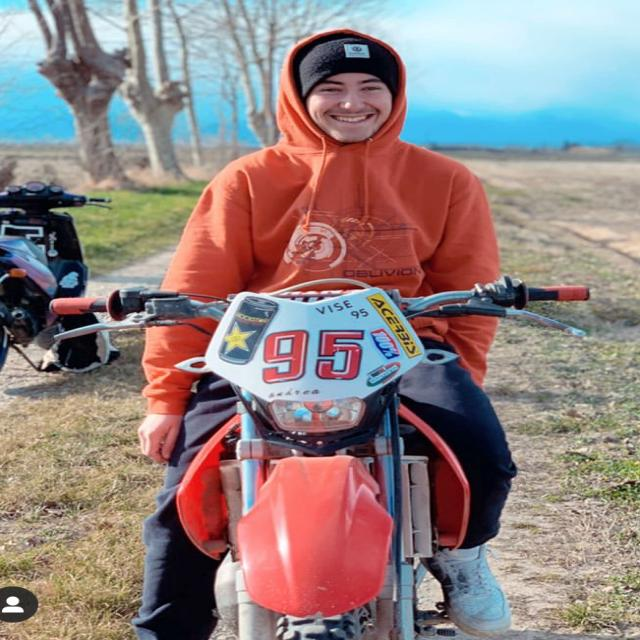no_helmet: (277, 23, 403, 148)
